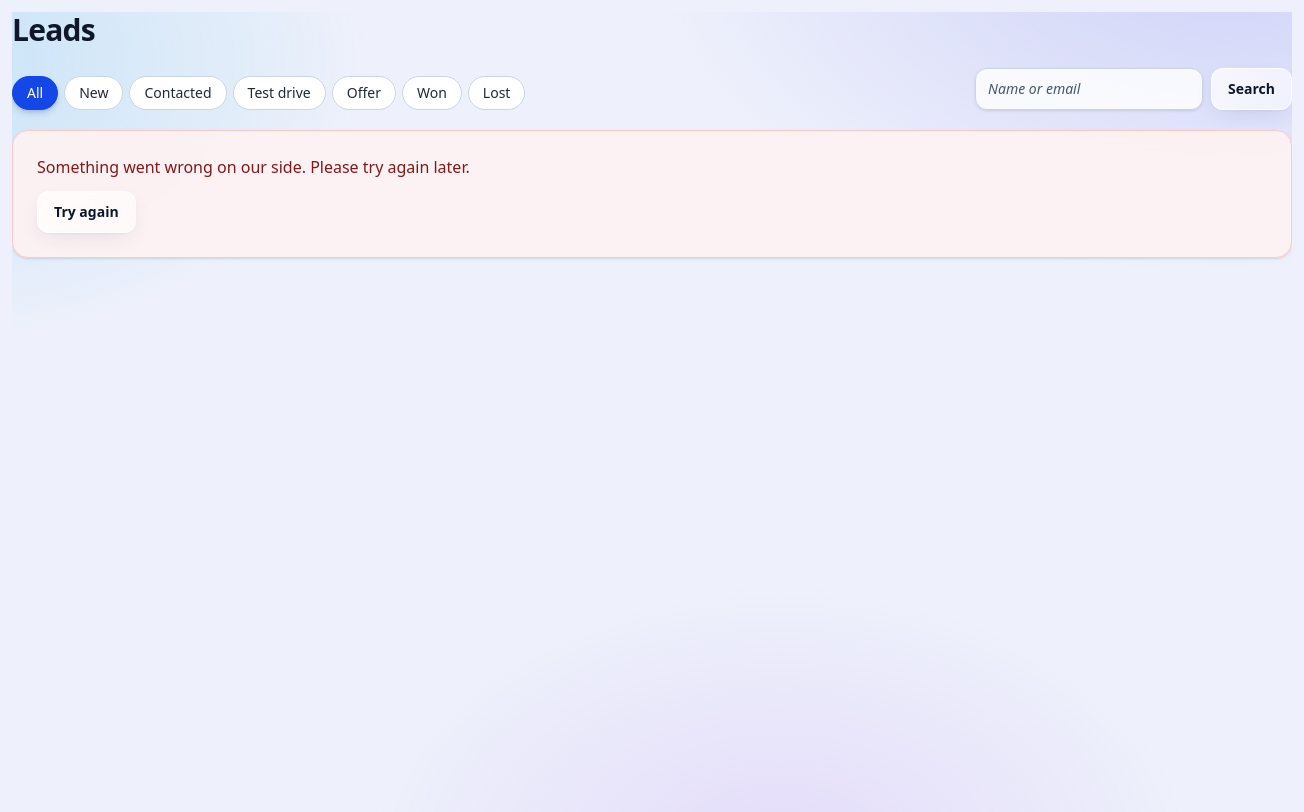
LeadsView › shows an error with retry, and recovers
Expected: the message shows "our side", top-left (37, 156), bottom-right (470, 178)
Click the button "Try again". click: (86, 212)
box: top-left (37, 191), bottom-right (136, 233)
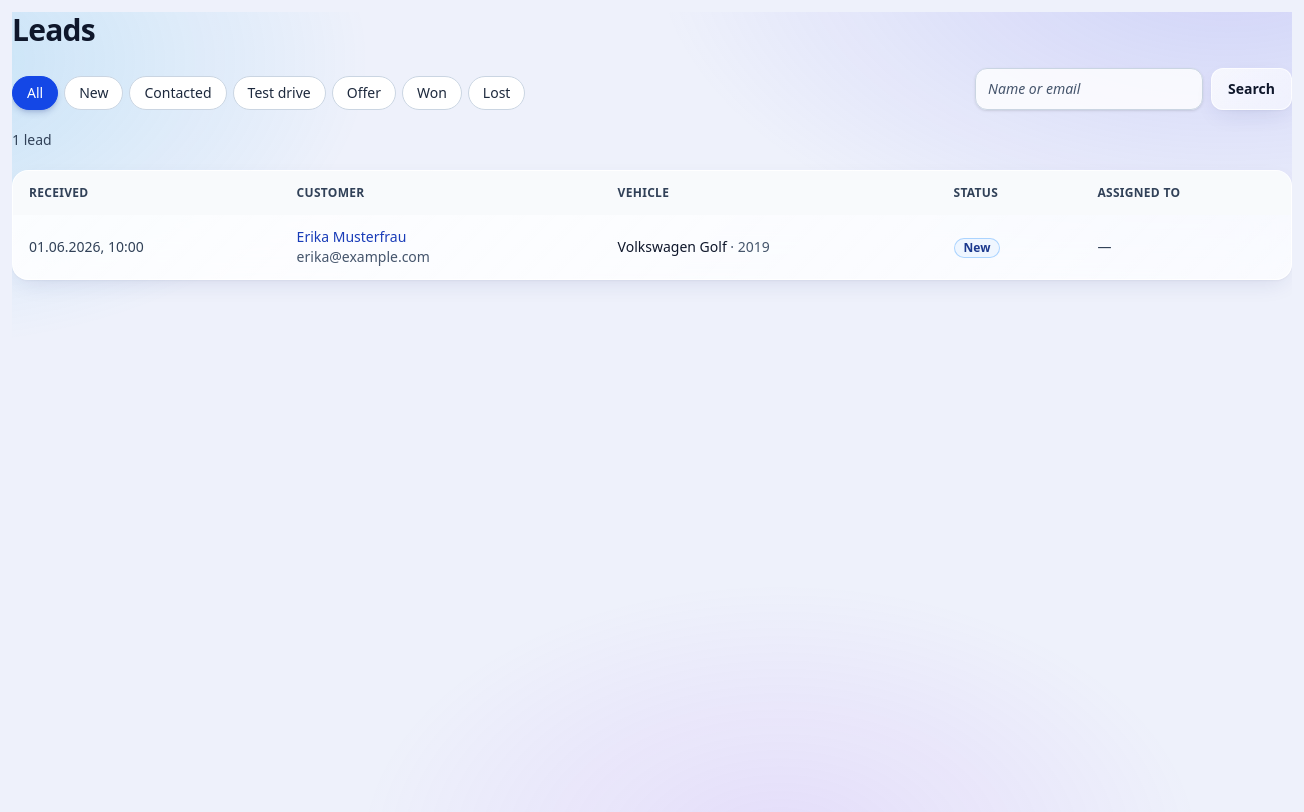
Result: the table is shown at top-left (13, 171), bottom-right (1291, 279)
Result: the message "Something went wrong on our side. Please try again later. Try again" is gone
